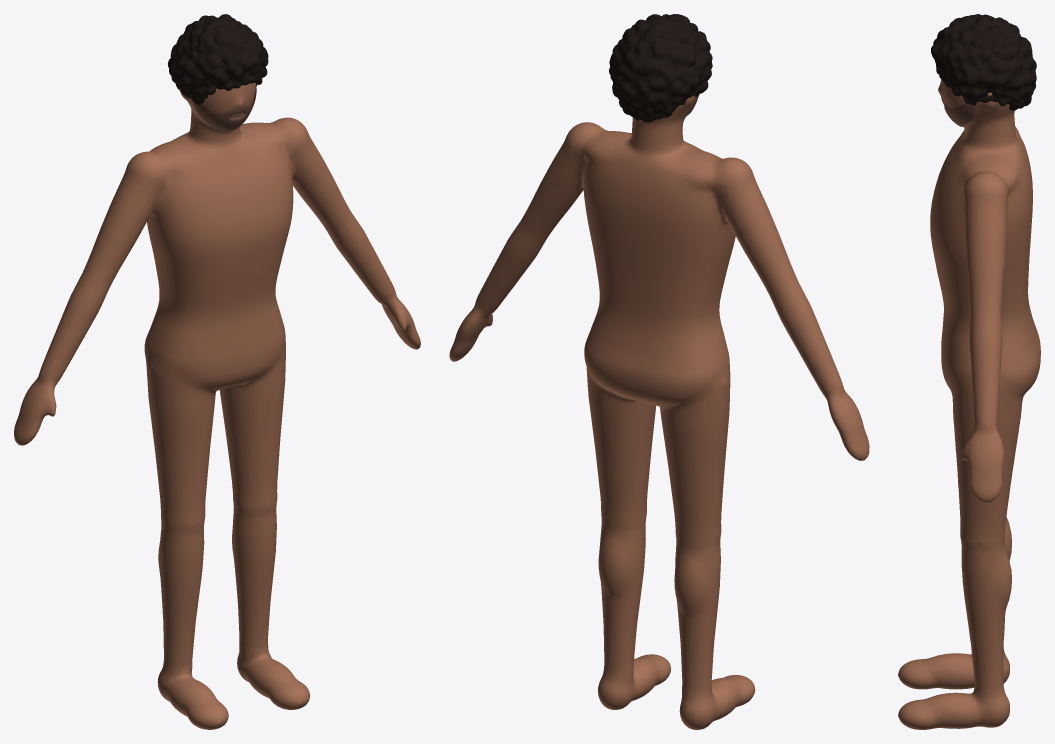
The model's file is avatar.glb.
3 views of the same model, side by side, from view 1: azimuth 30°, elevation 25°; view 2: azimuth 150°, elevation 25°; view 3: azimuth 270°, elevation 25° (orthographic). The views are drawn at different scales.
Parts seen in each view (by area): view 1: body_torso, body_hips, hair_full, body_thigh_R, body_thigh_L, body_shin_R, body_shin_L, body_forearm_R, body_forearm_L, body_upperarm_R, body_foot_R, body_foot_L (+6 smaller); view 2: body_torso, body_hips, hair_full, body_thigh_R, body_thigh_L, body_shin_R, body_shin_L, body_forearm_R, body_forearm_L, body_upperarm_R, body_foot_R, body_foot_L (+5 smaller); view 3: body_torso, hair_full, body_shin_L, body_hips, body_forearm_L, body_thigh_L, body_foot_L, body_upperarm_L, body_hand_L, body_foot_R, body_head, body_neck (+1 smaller).
Boxes of the visible parts, bbox=[...] form: body_torso: bbox=[125, 117, 309, 334]; body_hips: bbox=[144, 308, 285, 410]; hair_full: bbox=[168, 14, 268, 104]; body_thigh_R: bbox=[148, 398, 215, 524]; body_thigh_L: bbox=[219, 381, 285, 507]; body_shin_R: bbox=[158, 516, 205, 666]; body_shin_L: bbox=[232, 499, 277, 648]; body_forearm_R: bbox=[40, 230, 132, 380]; body_forearm_L: bbox=[304, 181, 394, 301]; body_upperarm_R: bbox=[100, 169, 167, 246]; body_foot_R: bbox=[157, 661, 228, 729]; body_foot_L: bbox=[237, 643, 310, 709]; body_torso: bbox=[564, 122, 754, 347]; body_hips: bbox=[584, 320, 730, 425]; hair_full: bbox=[609, 14, 712, 122]; body_thigh_R: bbox=[660, 413, 729, 540]; body_thigh_L: bbox=[588, 395, 656, 522]; body_shin_R: bbox=[674, 532, 721, 691]; body_shin_L: bbox=[598, 512, 646, 672]; body_forearm_R: bbox=[747, 239, 842, 393]; body_forearm_L: bbox=[476, 188, 569, 312]; body_upperarm_R: bbox=[710, 174, 780, 255]; body_foot_R: bbox=[679, 675, 755, 729]; body_foot_L: bbox=[598, 654, 670, 709]; body_torso: bbox=[930, 126, 1032, 345]; hair_full: bbox=[931, 14, 1036, 110]; body_shin_L: bbox=[960, 535, 1011, 690]; body_hips: bbox=[941, 314, 1040, 427]; body_forearm_L: bbox=[967, 266, 1004, 424]; body_thigh_L: bbox=[953, 416, 1020, 542]; body_foot_L: bbox=[898, 685, 1009, 729]; body_upperarm_L: bbox=[964, 194, 1008, 267]; body_hand_L: bbox=[961, 423, 1004, 502]; body_foot_R: bbox=[898, 649, 1009, 689]; body_head: bbox=[938, 79, 1014, 137]; body_neck: bbox=[958, 128, 1023, 161].
Size of the model in its own units: 1.11 by 1.78 by 0.3368.
